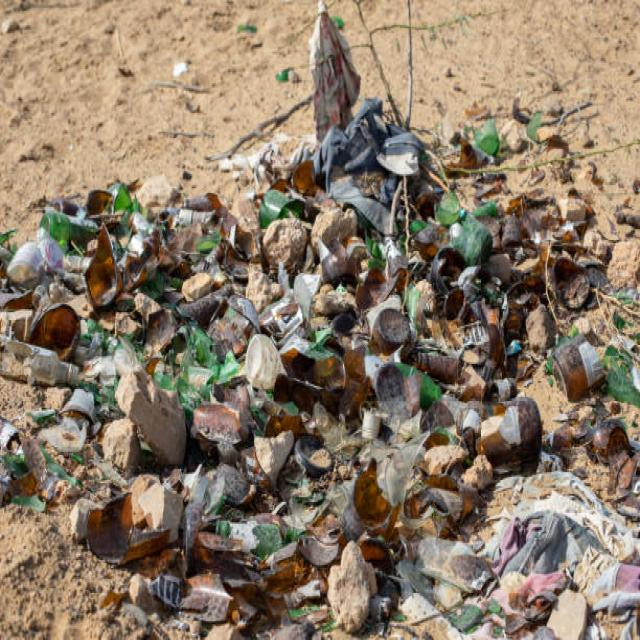electronic: (84, 491, 174, 570), (433, 186, 493, 265), (369, 307, 408, 353)
